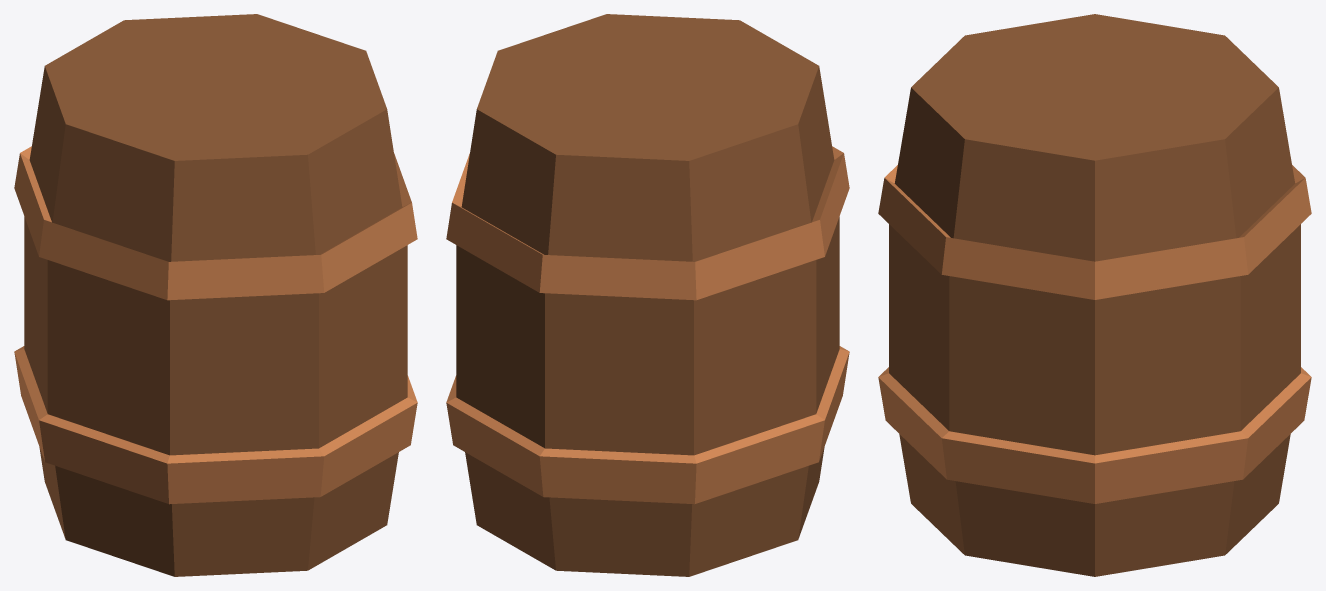
File: cask.fbx
3 renders of one model, left to right at view 1: azimuth 30°, elevation 25°; view 2: azimuth 150°, elevation 25°; view 3: azimuth 270°, elevation 25°, orthographic.
Visible parts, largest first — view 1: cask; view 2: cask; view 3: cask.
Boxes of the visible parts, left/top/right/bottom form: cask: left=14, top=14, right=417, bottom=576; cask: left=446, top=14, right=849, bottom=576; cask: left=878, top=14, right=1311, bottom=576.
Size of the model in its own units: 113 by 127 by 120.
Materials: 1 (1 with a texture image).
